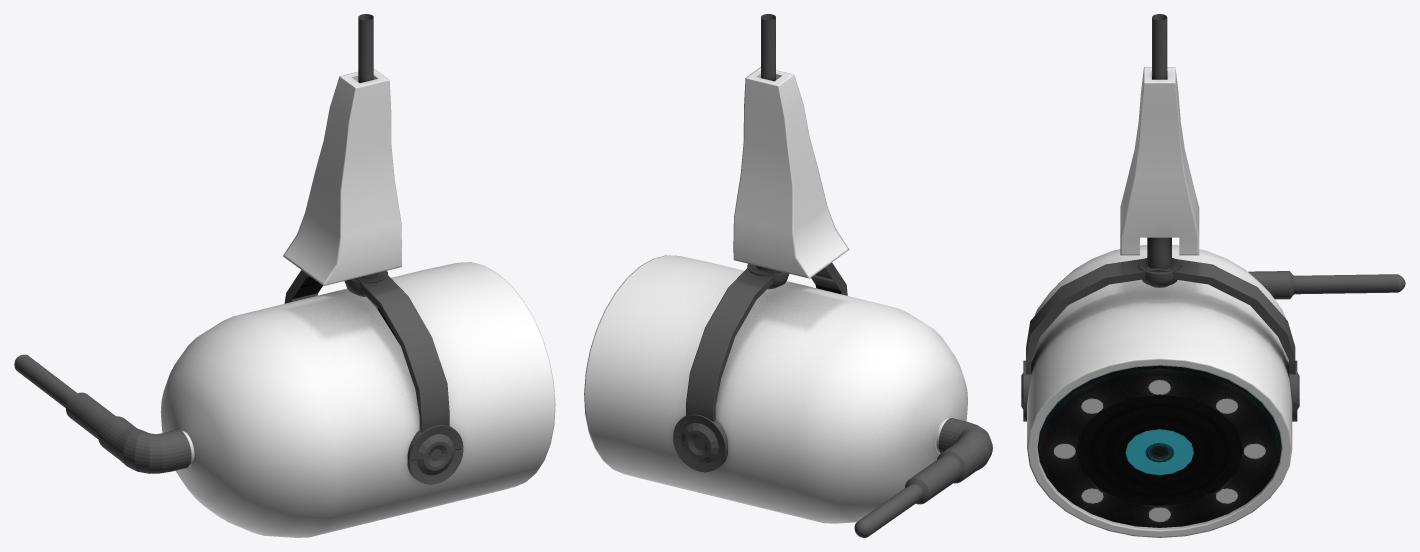
File: security camera.fbx
The picture shows the model from 3 angles, left to right: view 1: azimuth 30°, elevation 25°; view 2: azimuth 150°, elevation 25°; view 3: azimuth 270°, elevation 25°; orthographic projection. The views are drawn at different scales.
Parts seen in each view (by area): view 1: Security Base, Base, Stand Side Rotation; view 2: Security Base, Base, Stand Side Rotation; view 3: Security Base, Base, Stand Side Rotation.
Part boxes in pixels (bbox=[...]): Security Base: bbox=[14, 262, 555, 537]; Base: bbox=[283, 14, 401, 285]; Stand Side Rotation: bbox=[284, 270, 454, 475]; Security Base: bbox=[584, 255, 992, 537]; Base: bbox=[733, 14, 849, 278]; Stand Side Rotation: bbox=[681, 262, 847, 463]; Security Base: bbox=[1023, 244, 1405, 537]; Base: bbox=[1120, 14, 1199, 255]; Stand Side Rotation: bbox=[1021, 237, 1299, 409].
Size of the model in its own units: 387 by 489 by 362.
Materials: 3 (3 with a texture image).
